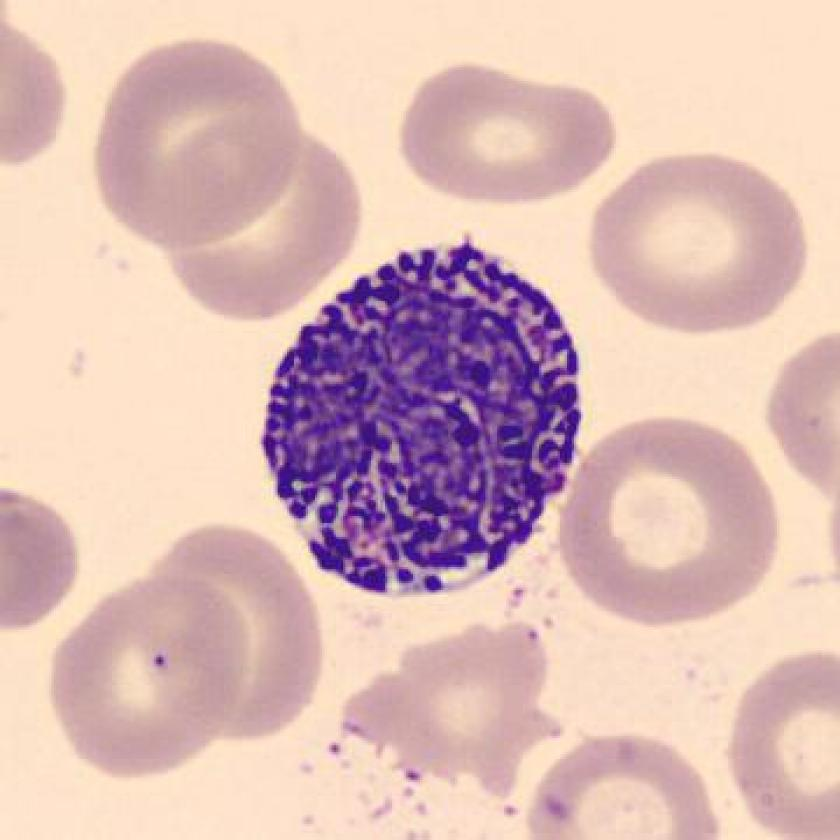basophil: (251, 233, 584, 610)
